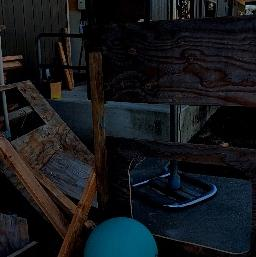algae: (88, 216, 157, 257)
